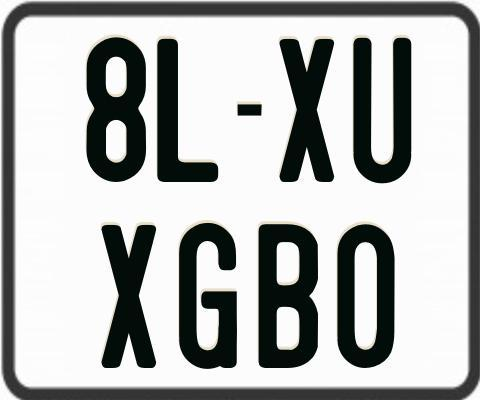0: (335, 221, 396, 367)
8: (84, 36, 150, 182)
B: (259, 221, 319, 370)
G: (179, 222, 239, 371)
L: (155, 36, 216, 184)
U: (351, 36, 411, 181)
X: (277, 36, 336, 182), (101, 223, 159, 366)
